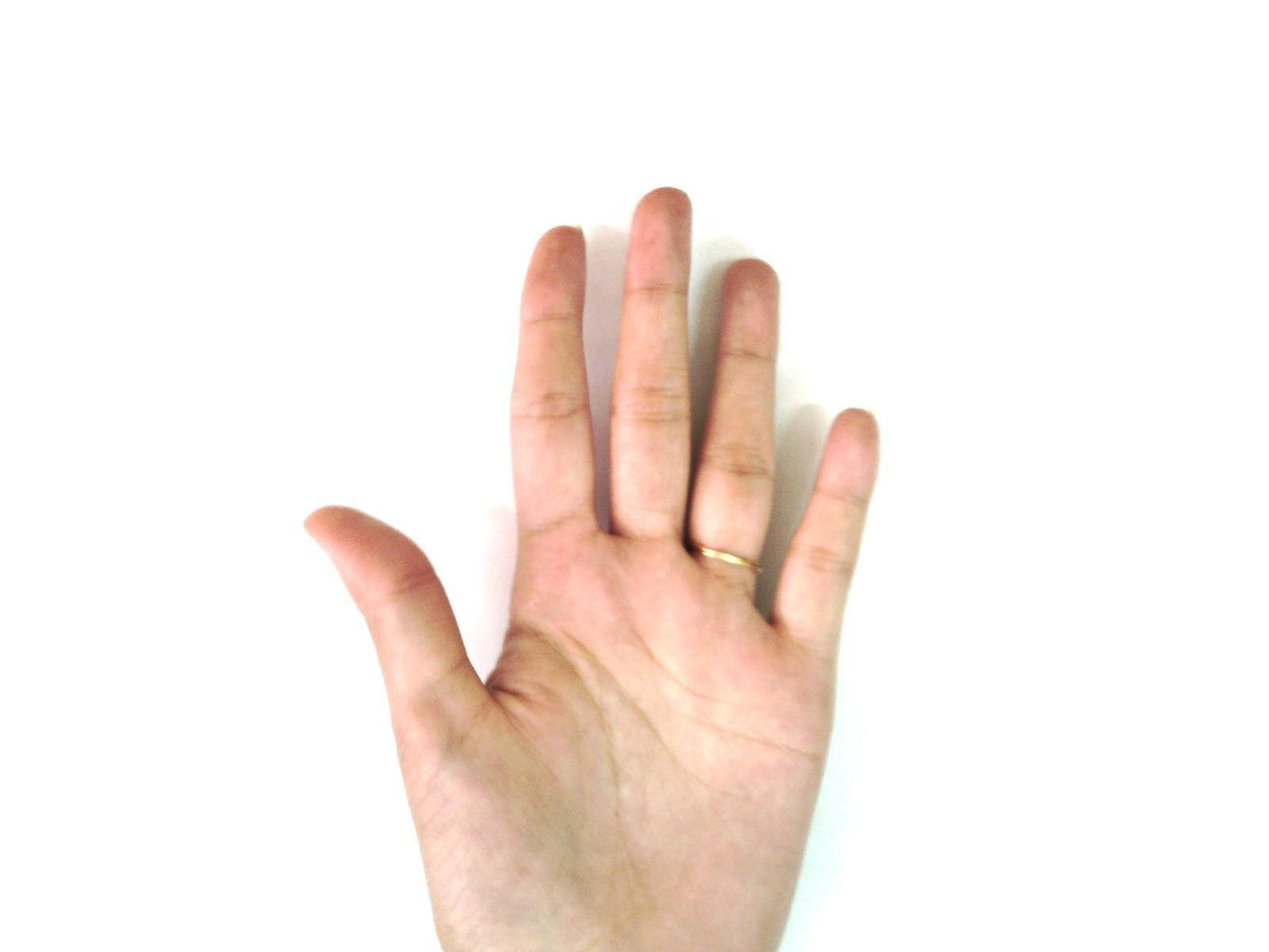open_palm: (302, 186, 884, 951)
